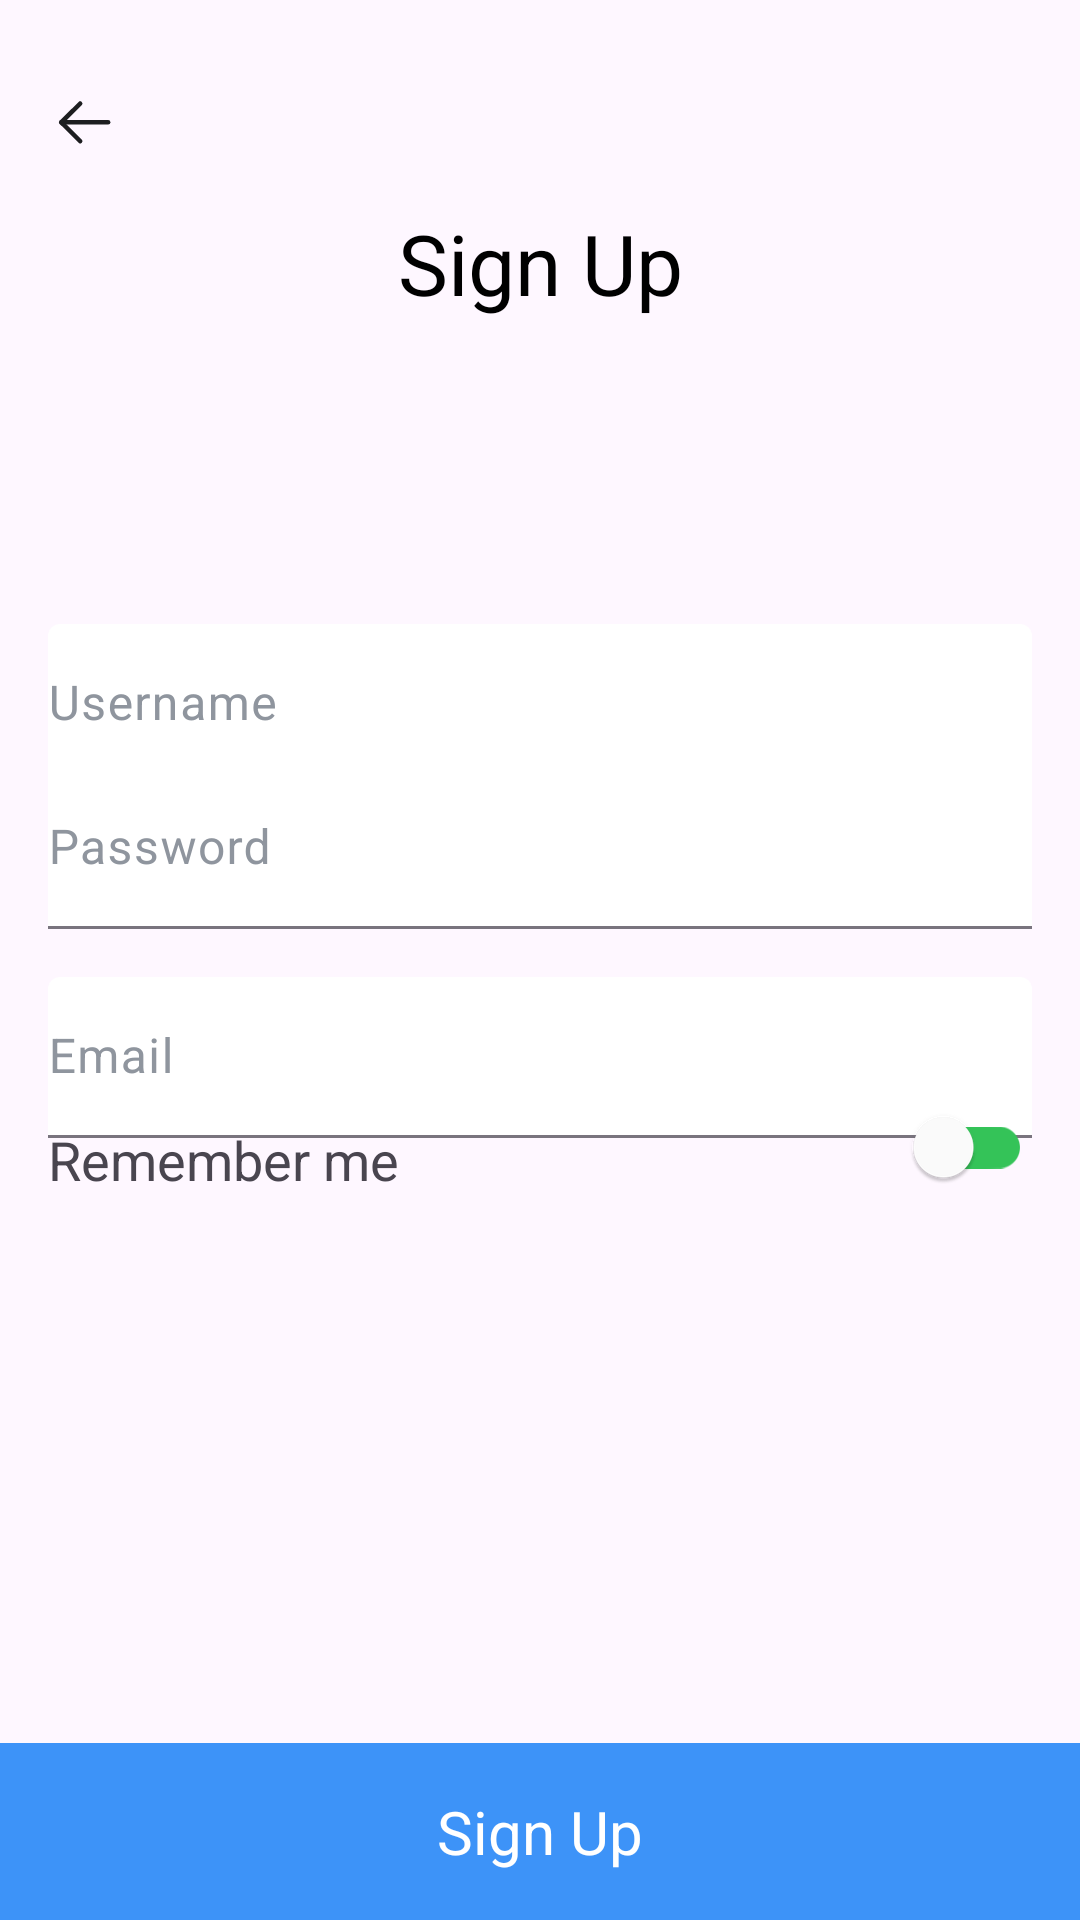

Icons on this 1080×1920 Android screen, each with its box as (x1, y1, x2, y2):
back: (59, 101, 111, 144)
